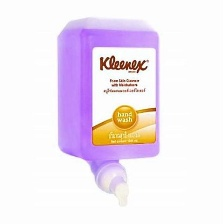cleaning_solution: (55, 11, 164, 213)
